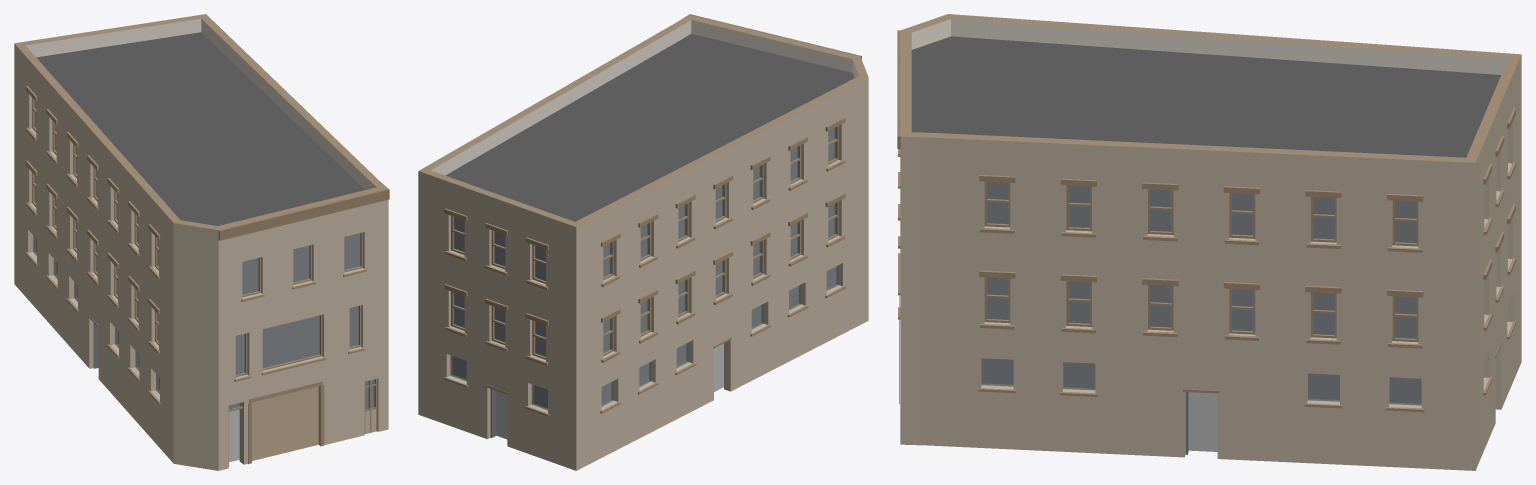
The model's file is exterior.glb.
The picture shows the model from 3 angles, left to right: view 1: azimuth 30°, elevation 25°; view 2: azimuth 150°, elevation 25°; view 3: azimuth 270°, elevation 25°; orthographic projection. The views are drawn at different scales.
Visible parts, largest first — view 1: shell, roof, glazing, shadow-proxy, storefront, trim, relief-4, frames; view 2: shell, roof, glazing, shadow-proxy, trim, frames; view 3: shell, roof, shadow-proxy, glazing, trim, frames.
Boxes of the visible parts, x1=… form: shell: x1=14, y1=14, x2=388, y2=470; roof: x1=36, y1=32, x2=364, y2=225; glazing: x1=33, y1=101, x2=375, y2=409; shadow-proxy: x1=36, y1=233, x2=373, y2=462; storefront: x1=88, y1=315, x2=377, y2=466; trim: x1=25, y1=85, x2=366, y2=404; relief-4: x1=218, y1=188, x2=389, y2=464; frames: x1=32, y1=98, x2=362, y2=377; shell: x1=418, y1=15, x2=868, y2=470; roof: x1=445, y1=33, x2=854, y2=221; glazing: x1=450, y1=127, x2=838, y2=410; shadow-proxy: x1=452, y1=128, x2=835, y2=439; trim: x1=443, y1=117, x2=845, y2=416; frames: x1=451, y1=126, x2=838, y2=359; shell: x1=900, y1=14, x2=1521, y2=470; roof: x1=911, y1=36, x2=1500, y2=157; shadow-proxy: x1=982, y1=182, x2=1421, y2=451; glazing: x1=981, y1=181, x2=1421, y2=405; trim: x1=898, y1=108, x2=1516, y2=412; frames: x1=984, y1=181, x2=1418, y2=342.
Bounding box in the file's own units: 10.67 × 10.3 × 18.91.
